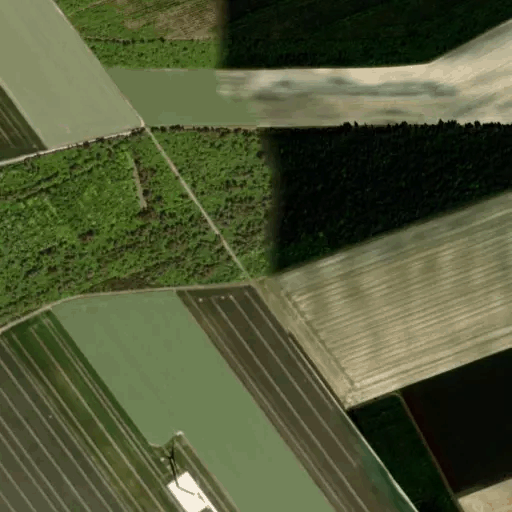wt: (155, 437, 217, 512)
